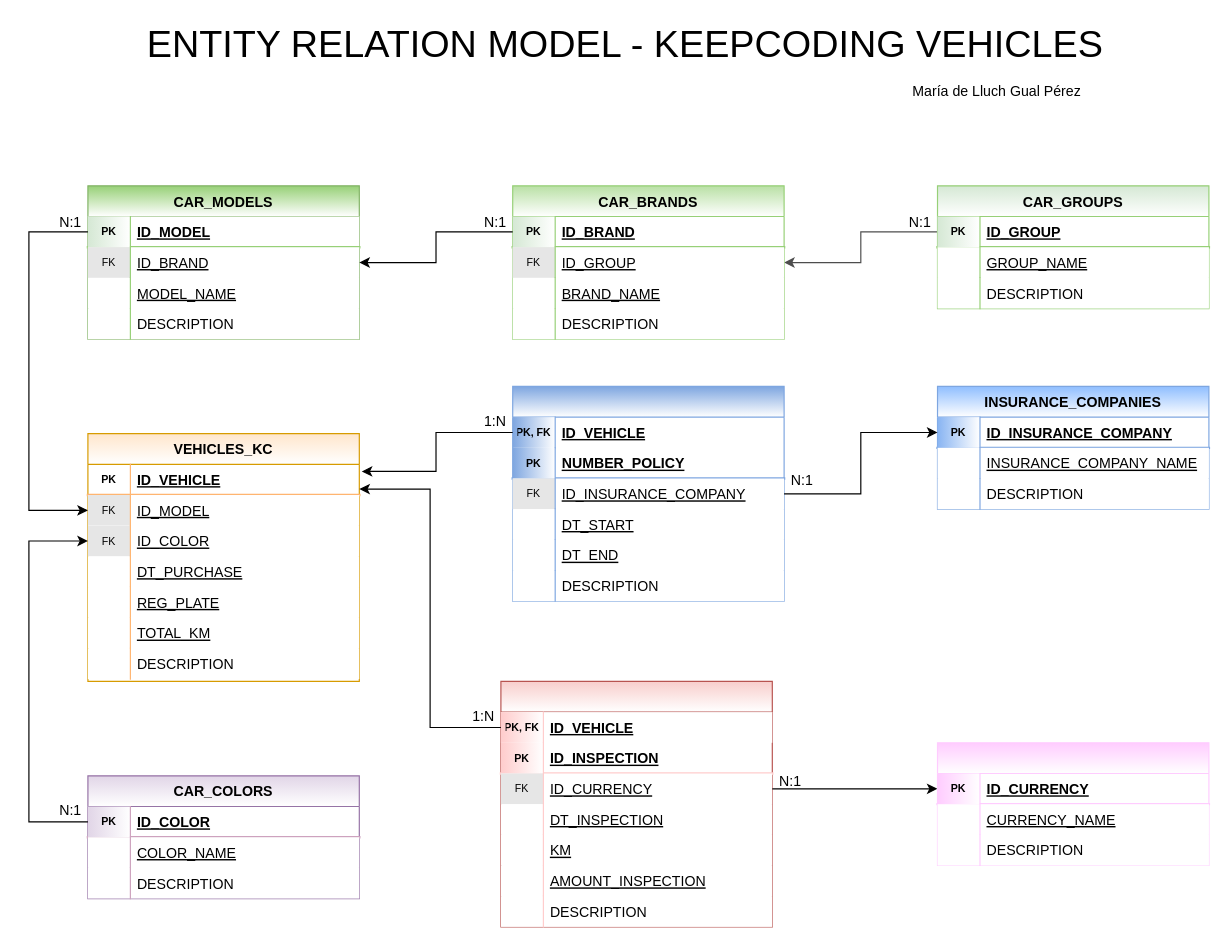
Image size: 1231x950. Some labels were removed from this diagram. Each missing label, with the box of its shape:
CAR_MAINTENANCE_HISTORY: (500, 680, 772, 927)
CURRENCIES: (936, 742, 1209, 866)
INSURANCE_POLICIES_VEHICLE: (512, 385, 784, 601)
